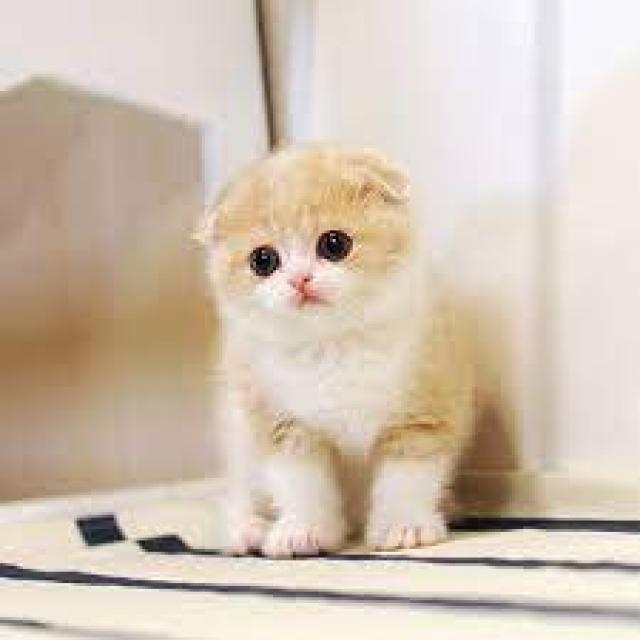cat-face: (112, 103, 525, 401)
